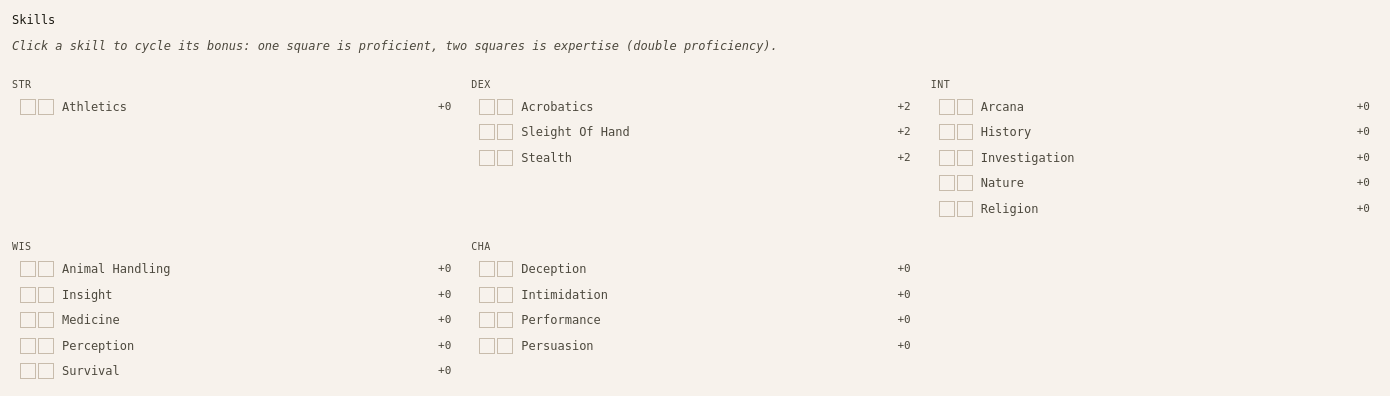
it: SkillsField › computes modifiers using proficiency and expertise
What coordinates should you click on to do the following:
click the button with aria-label "stealth:"
I would click on:
 (547, 158)
Its box is [471,146,919,170].
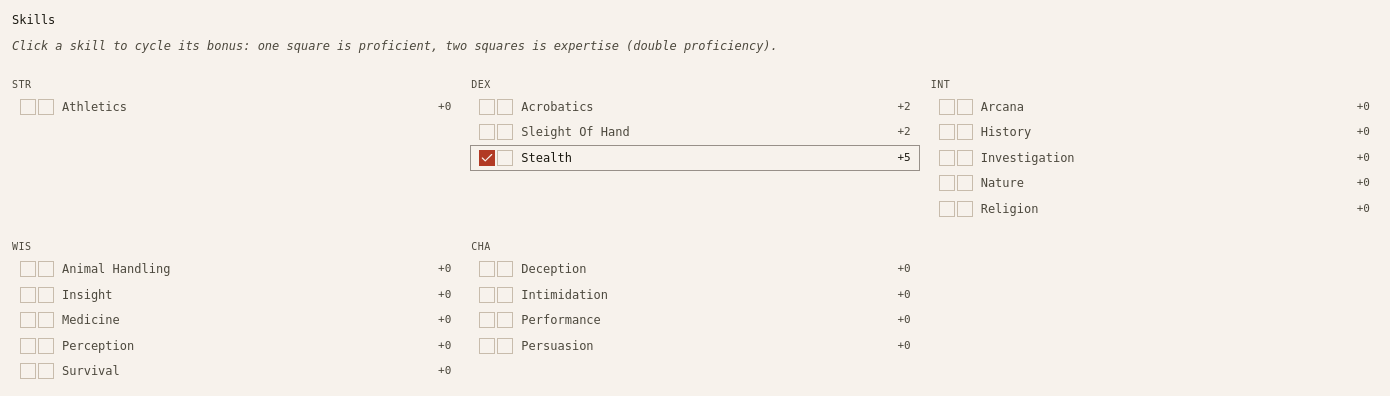
Expected: the button with aria-label "stealth:" shows "+5"
What coordinates should you click on to do the following:
click the button with aria-label "stealth:"
I would click on:
 (547, 158)
Its box is [471,146,919,170].
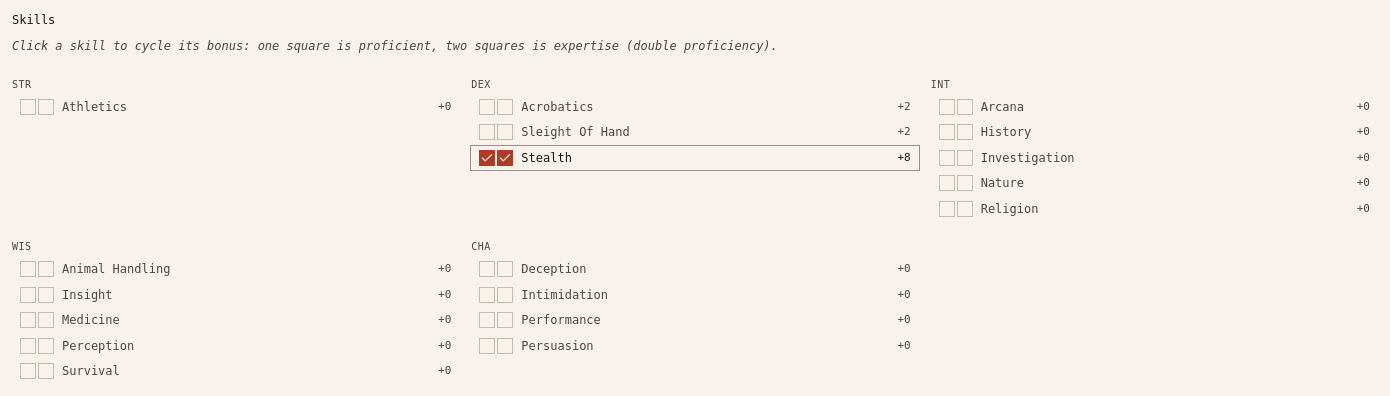
Expected: the button with aria-label "stealth:" shows "+8", [471,146,919,170]
